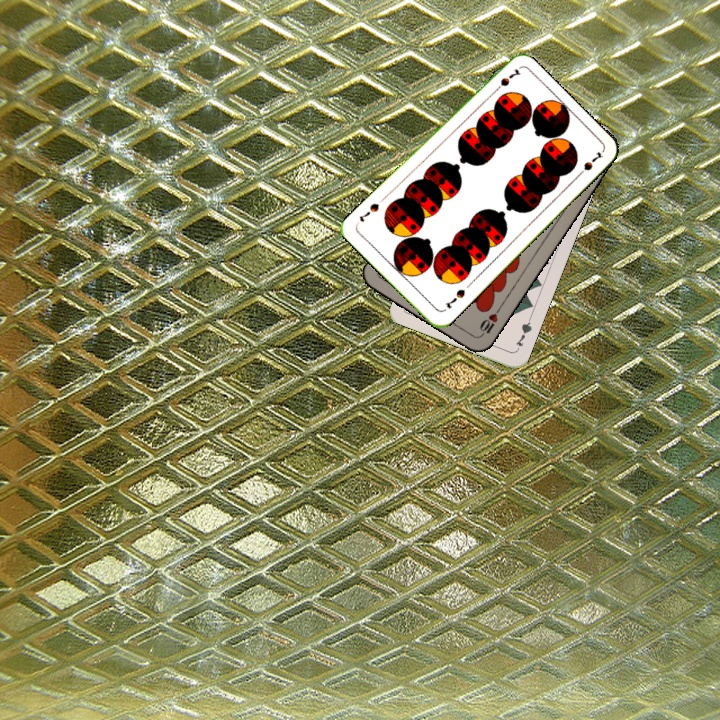G7: (511, 314, 535, 353)
H10: (475, 304, 503, 340)
S7: (488, 65, 523, 97), (441, 285, 468, 311)
